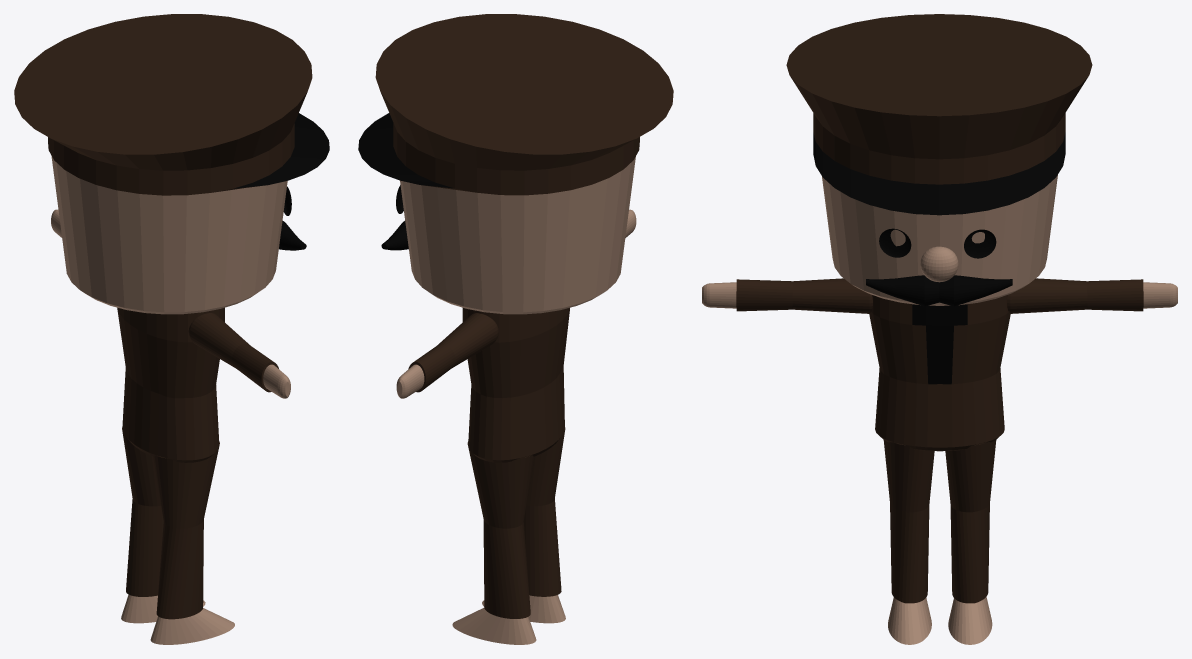
The model's file is brown_bigstache.fbx.
3 renders of one model, left to right at view 1: azimuth 30°, elevation 25°; view 2: azimuth 150°, elevation 25°; view 3: azimuth 270°, elevation 25°, orthographic. The views are drawn at different scales.
Visible parts, largest first — view 1: Hat.001, Headd.002, Cylinder.049, Cylinder.052, Cylinder.053, Cylinder.050, Cylinder.047, Cylinder.038, Cylinder.055, Cylinder.017; view 2: Hat.001, Headd.002, Cylinder.049, Cylinder.053, Cylinder.052, Cylinder.051, Cylinder.038, Cylinder.047, Cylinder.056, Cylinder.017; view 3: Hat.001, Cylinder.049, Headd.002, Cylinder.053, Cylinder.052, Cylinder.051, Cylinder.050, Cylinder.017, Cylinder.038, Cylinder.047, Eyes.007, Sphere.002 (+2 smaller).
Boxes of the visible parts, <box> form: Hat.001: <box>14,14,329,195</box>; Headd.002: <box>51,155,287,314</box>; Cylinder.049: <box>117,307,224,462</box>; Cylinder.052: <box>152,442,219,619</box>; Cylinder.053: <box>122,426,163,596</box>; Cylinder.050: <box>188,313,278,392</box>; Cylinder.047: <box>150,608,234,644</box>; Cylinder.038: <box>121,594,205,623</box>; Cylinder.055: <box>263,364,290,398</box>; Cylinder.017: <box>279,221,306,250</box>; Hat.001: <box>358,14,673,195</box>; Headd.002: <box>400,156,635,314</box>; Cylinder.049: <box>462,308,569,462</box>; Cylinder.053: <box>467,441,534,618</box>; Cylinder.052: <box>523,427,565,596</box>; Cylinder.051: <box>408,313,498,392</box>; Cylinder.038: <box>452,608,536,644</box>; Cylinder.047: <box>482,595,565,623</box>; Cylinder.056: <box>396,364,424,398</box>; Cylinder.017: <box>381,221,408,250</box>; Hat.001: <box>786,14,1092,215</box>; Cylinder.049: <box>869,295,1010,451</box>; Headd.002: <box>822,175,1057,305</box>; Cylinder.053: <box>945,440,996,603</box>; Cylinder.052: <box>883,440,934,603</box>; Cylinder.051: <box>1007,278,1143,313</box>; Cylinder.050: <box>736,278,872,313</box>; Cylinder.017: <box>866,275,1012,306</box>; Cylinder.038: <box>948,597,992,644</box>; Cylinder.047: <box>888,597,931,644</box>; Eyes.007: <box>879,228,996,258</box>; Sphere.002: <box>920,246,958,282</box>.
Size of the model in its own units: 239 by 453 by 346.
